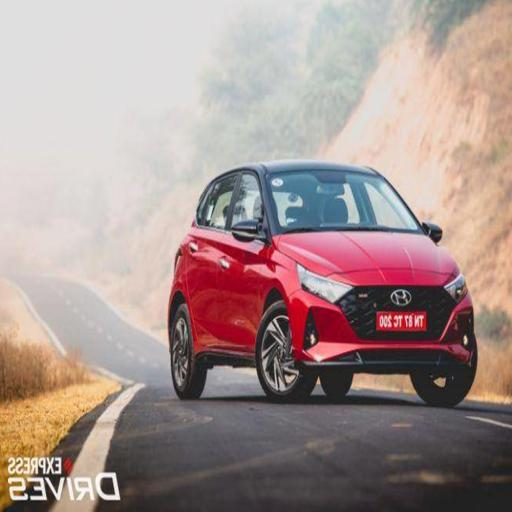License: (374, 310, 428, 336)
